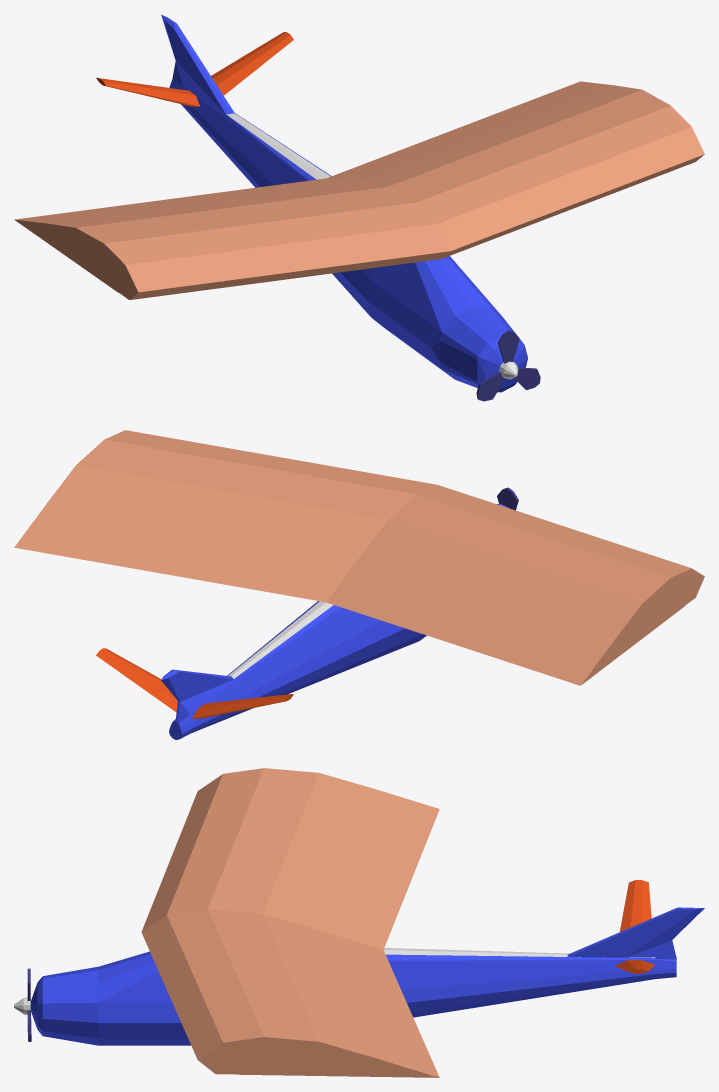
File: LowPolyPlane.fbx
3 renders of one model, top to bottom at view 1: azimuth 30°, elevation 25°; view 2: azimuth 150°, elevation 25°; view 3: azimuth 270°, elevation 25°, orthographic. The views are drawn at different scales.
Parts seen in each view (by area): view 1: Plane, Circle, Circle.002, Circle.001; view 2: Plane, Circle, Circle.002, Circle.001; view 3: Plane, Circle, Circle.002, Circle.001.
Boxes of the visible parts, box(x1,y1,x2,y2) form: Plane: box(14, 81, 704, 299); Circle: box(161, 14, 527, 392); Circle.002: box(96, 32, 293, 106); Circle.001: box(226, 113, 330, 179); Plane: box(14, 430, 704, 685); Circle: box(161, 504, 509, 739); Circle.002: box(96, 648, 293, 718); Circle.001: box(228, 601, 333, 678); Plane: box(141, 768, 439, 1077); Circle: box(30, 907, 704, 1045); Circle.002: box(615, 880, 654, 973); Circle.001: box(383, 948, 655, 957).
Bounding box in the file's own units: 1133 × 274 × 1230.
